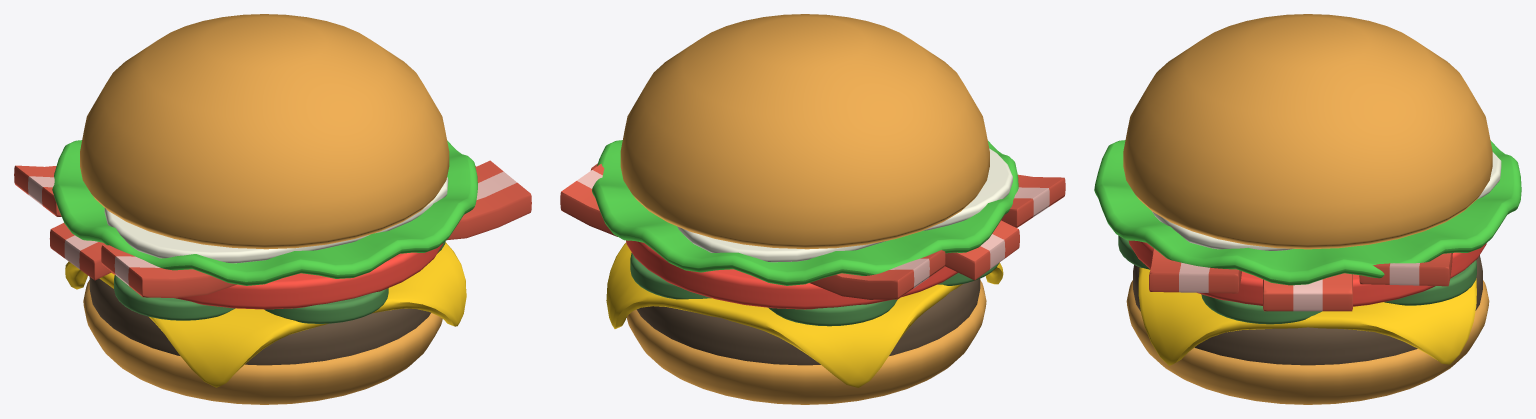
Rendered from BigSpecialBurger.fbx.
3 views of the same model, side by side, from view 1: azimuth 30°, elevation 25°; view 2: azimuth 150°, elevation 25°; view 3: azimuth 270°, elevation 25° (orthographic).
Visible parts, largest first — view 1: BunTop, Lettuce, BunBottom, Cheese, Beef, Bacon_2, Tomato, Egg, Cucumber_2, Cucumber_3, Bacon_0, Bacon_1; view 2: BunTop, Lettuce, BunBottom, Cheese, Beef, Tomato, Bacon_1, Egg, Bacon_0, Bacon_2, Cucumber_1, Cucumber_0; view 3: BunTop, Lettuce, BunBottom, Cheese, Beef, Tomato, Bacon_0, Bacon_2, Bacon_1, Cucumber_4, Egg, Cucumber_0 (+1 smaller).
Boxes of the visible parts, left/top/right/bottom form: BunTop: left=80, top=14, right=449, bottom=249; Lettuce: left=52, top=140, right=477, bottom=285; BunBottom: left=83, top=280, right=442, bottom=404; Cheese: left=65, top=242, right=466, bottom=387; Beef: left=89, top=277, right=430, bottom=365; Bacon_2: left=101, top=160, right=531, bottom=297; Tomato: left=111, top=243, right=443, bottom=309; Egg: left=104, top=177, right=448, bottom=263; Cucumber_2: left=114, top=275, right=235, bottom=320; Cucumber_3: left=264, top=288, right=388, bottom=323; Bacon_0: left=49, top=166, right=476, bottom=280; Bacon_1: left=14, top=165, right=61, bottom=216; BunTop: left=620, top=14, right=989, bottom=249; Lettuce: left=592, top=140, right=1018, bottom=285; BunBottom: left=626, top=280, right=986, bottom=404; Cheese: left=606, top=242, right=1003, bottom=387; Beef: left=636, top=279, right=980, bottom=365; Tomato: left=626, top=240, right=957, bottom=309; Bacon_1: left=560, top=164, right=945, bottom=299; Egg: left=677, top=148, right=1012, bottom=262; Bacon_0: left=590, top=163, right=1019, bottom=280; Bacon_2: left=1001, top=174, right=1065, bottom=227; Cucumber_1: left=768, top=299, right=897, bottom=326; Cucumber_0: left=630, top=253, right=711, bottom=299; BunTop: left=1123, top=14, right=1492, bottom=249; Lettuce: left=1094, top=140, right=1521, bottom=285; BunBottom: left=1126, top=280, right=1489, bottom=404; Cheese: left=1138, top=267, right=1476, bottom=365; Beef: left=1133, top=255, right=1482, bottom=365; Tomato: left=1128, top=240, right=1486, bottom=306; Bacon_0: left=1263, top=273, right=1352, bottom=311; Bacon_2: left=1149, top=248, right=1241, bottom=293; Bacon_1: left=1359, top=253, right=1452, bottom=286; Cucumber_4: left=1201, top=294, right=1321, bottom=324; Egg: left=1152, top=152, right=1501, bottom=250; Cucumber_0: left=1384, top=260, right=1476, bottom=305.
Bounding box in the file's own units: 143 × 106 × 138.
